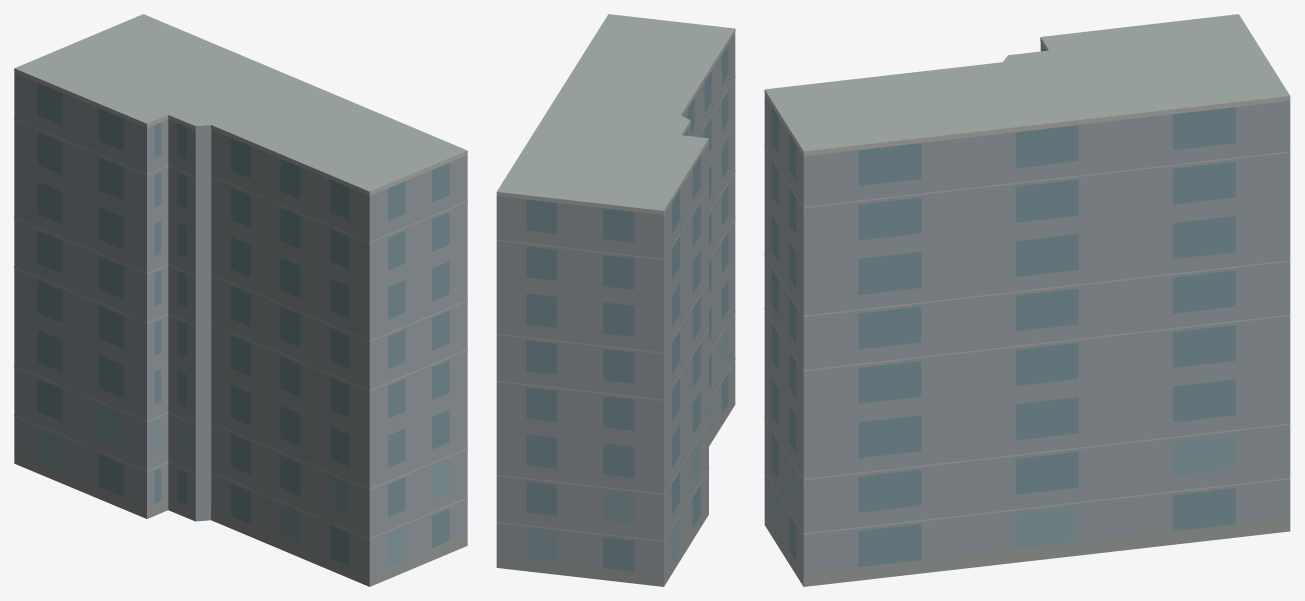
The model's file is survey-upis-32938318.glb.
3 renders of one model, left to right at view 1: azimuth 30°, elevation 25°; view 2: azimuth 150°, elevation 25°; view 3: azimuth 270°, elevation 25°, orthographic. The views are drawn at different scales.
Visible parts, largest first — view 1: survey-upis-32938318.tmp; view 2: survey-upis-32938318.tmp; view 3: survey-upis-32938318.tmp.
Boxes of the visible parts, box(x1,y1,x2,y2) form: survey-upis-32938318.tmp: box(14, 14, 467, 586); survey-upis-32938318.tmp: box(496, 14, 735, 586); survey-upis-32938318.tmp: box(764, 14, 1290, 586).
Size of the model in its own units: 14.79 by 21.8 by 23.88.
